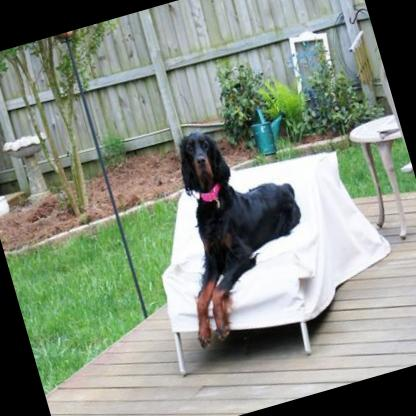Gordon_setter: (138, 106, 334, 361)
